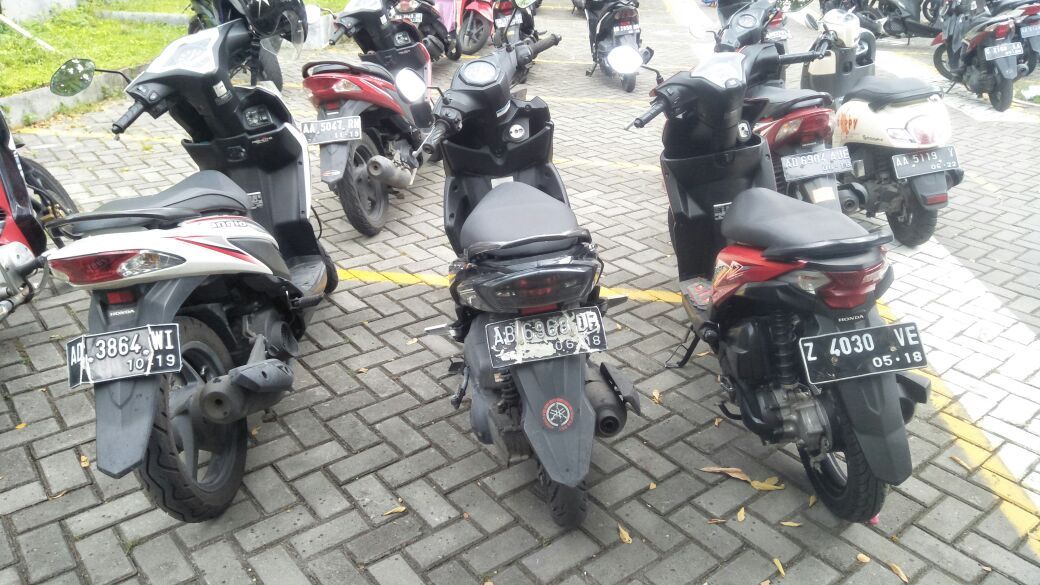plate: (67, 321, 181, 390), (486, 307, 607, 371), (802, 324, 926, 385), (893, 141, 960, 181), (787, 148, 855, 181), (297, 115, 362, 143), (986, 40, 1024, 61)
